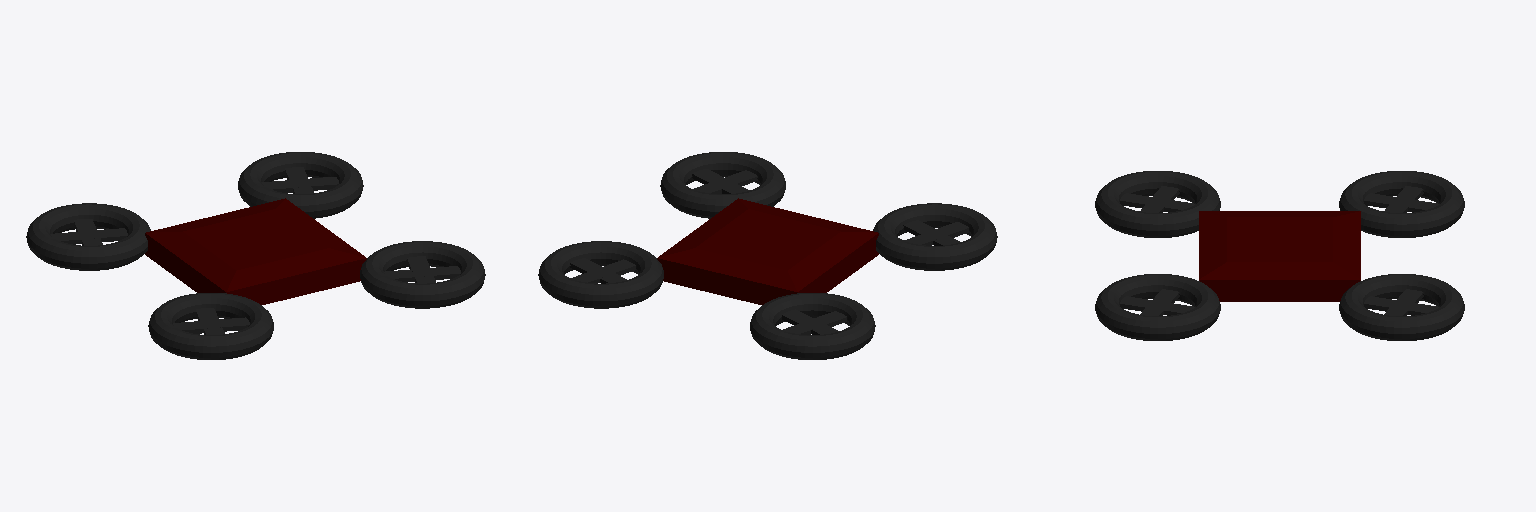
Rendered from drone.obj.
3 renders of one model, left to right at view 1: azimuth 30°, elevation 25°; view 2: azimuth 150°, elevation 25°; view 3: azimuth 270°, elevation 25°, orthographic.
Parts seen in each view (by area): view 1: Torus.003, Cube.003, Cube, Cube.002, Cube.001; view 2: Torus.003, Cube.002, Cube.003, Cube, Cube.001; view 3: Torus.003, Cube.001, Cube.002, Cube, Cube.003.
Boxes of the visible parts, <box> form: Torus.003: <box>26,152,485,359</box>; Cube.003: <box>384,256,460,283</box>; Cube: <box>262,167,338,193</box>; Cube.002: <box>173,308,249,334</box>; Cube.001: <box>51,219,127,245</box>; Torus.003: <box>538,152,997,359</box>; Cube.002: <box>903,220,968,245</box>; Cube.003: <box>692,169,757,193</box>; Cube: <box>570,258,635,283</box>; Cube.001: <box>782,309,846,334</box>; Torus.003: <box>1095,171,1464,340</box>; Cube.001: <box>1364,186,1438,212</box>; Cube.002: <box>1120,186,1194,212</box>; Cube: <box>1364,289,1438,315</box>; Cube.003: <box>1120,289,1194,315</box>.
Bounding box in the file's own units: 4.55 × 0.4388 × 4.55.